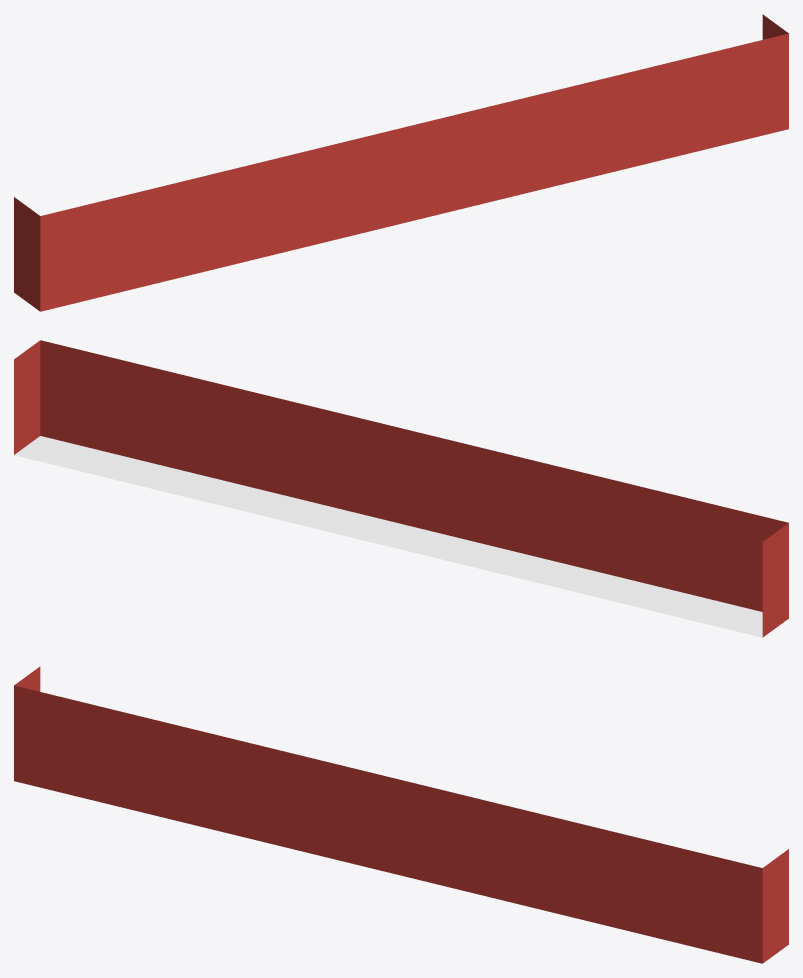
Rendered from Wall_Fix.fbx.
3 renders of one model, top to bottom at view 1: azimuth 30°, elevation 25°; view 2: azimuth 150°, elevation 25°; view 3: azimuth 330°, elevation 25°, orthographic.
Parts seen in each view (by area): view 1: BrickWall_Boundary_1.002; view 2: BrickWall_Boundary_1.002, Siadewalk_no_Panel.003; view 3: BrickWall_Boundary_1.002.
Part boxes in pixels (bbox=[...]): BrickWall_Boundary_1.002: bbox=[14, 14, 788, 311]; BrickWall_Boundary_1.002: bbox=[14, 340, 788, 637]; Siadewalk_no_Panel.003: bbox=[14, 436, 762, 637]; BrickWall_Boundary_1.002: bbox=[14, 666, 788, 963].
Bounding box in the file's own units: 6550 × 800 × 400.
